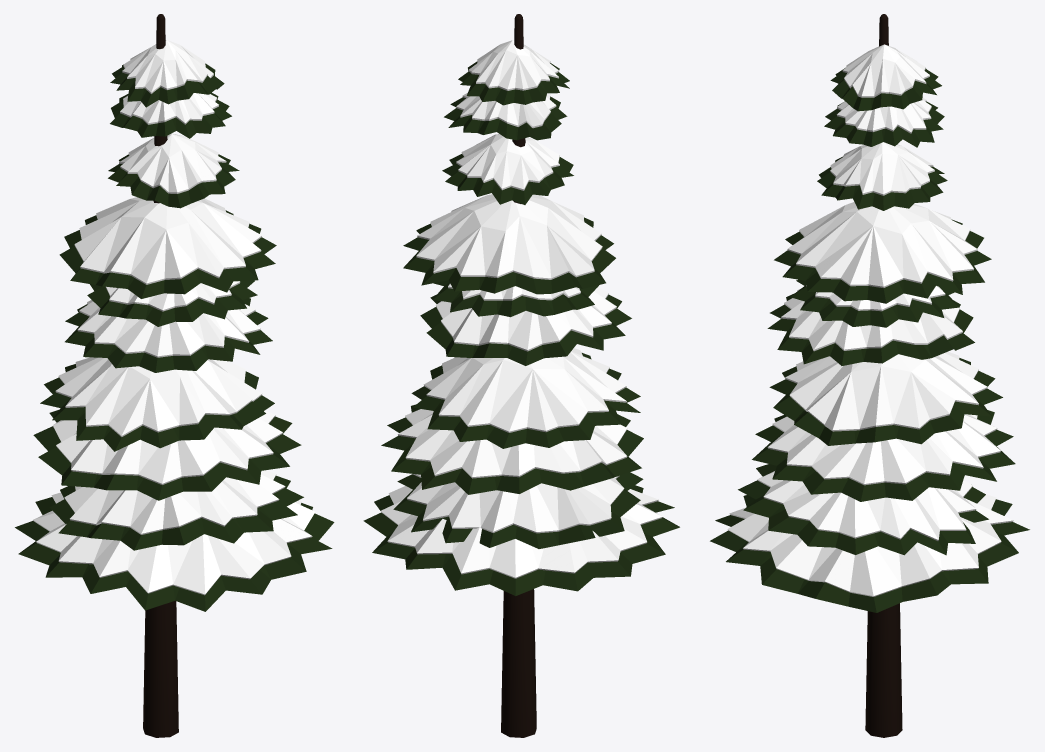
File: s_tree_001.FBX
3 renders of one model, left to right at view 1: azimuth 30°, elevation 25°; view 2: azimuth 150°, elevation 25°; view 3: azimuth 270°, elevation 25°, orthographic.
Visible parts, largest first — view 1: s_tree_leaves_001 (×2); view 2: s_tree_leaves_001 (×2); view 3: s_tree_leaves_001 (×2).
Boxes of the visible parts, bbox=[...] form: s_tree_leaves_001 (×2): bbox=[15, 14, 334, 737]; s_tree_leaves_001 (×2): bbox=[363, 14, 679, 737]; s_tree_leaves_001 (×2): bbox=[710, 14, 1029, 737].
Size of the model in its own units: 1.74 by 4.26 by 1.73.
